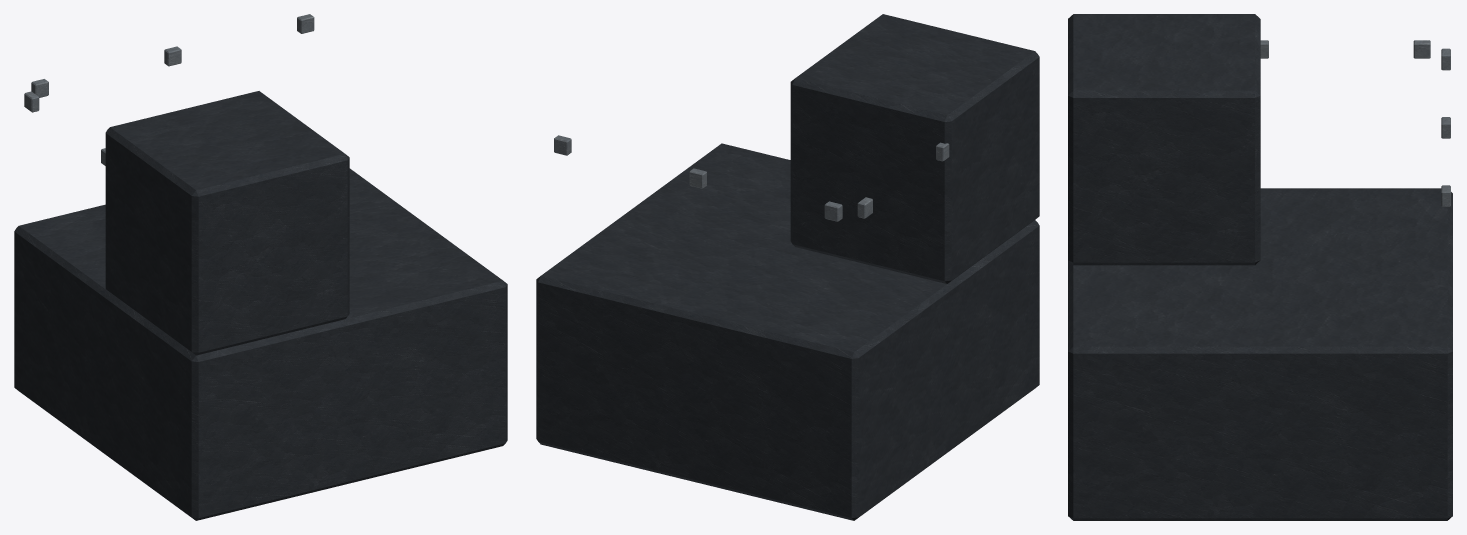
The model's file is train_black_iron_outer_corner.gltf.
3 renders of one model, left to right at view 1: azimuth 30°, elevation 25°; view 2: azimuth 150°, elevation 25°; view 3: azimuth 270°, elevation 25°, orthographic. The views are drawn at different scales.
Bounding box in the file's own units: 1 × 1 × 1.
2 materials, 2 textured.
